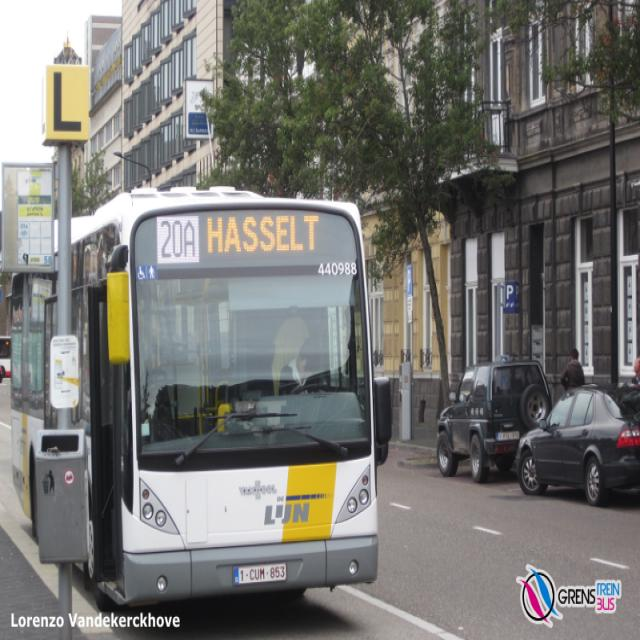bus-number: (157, 216, 199, 262)
